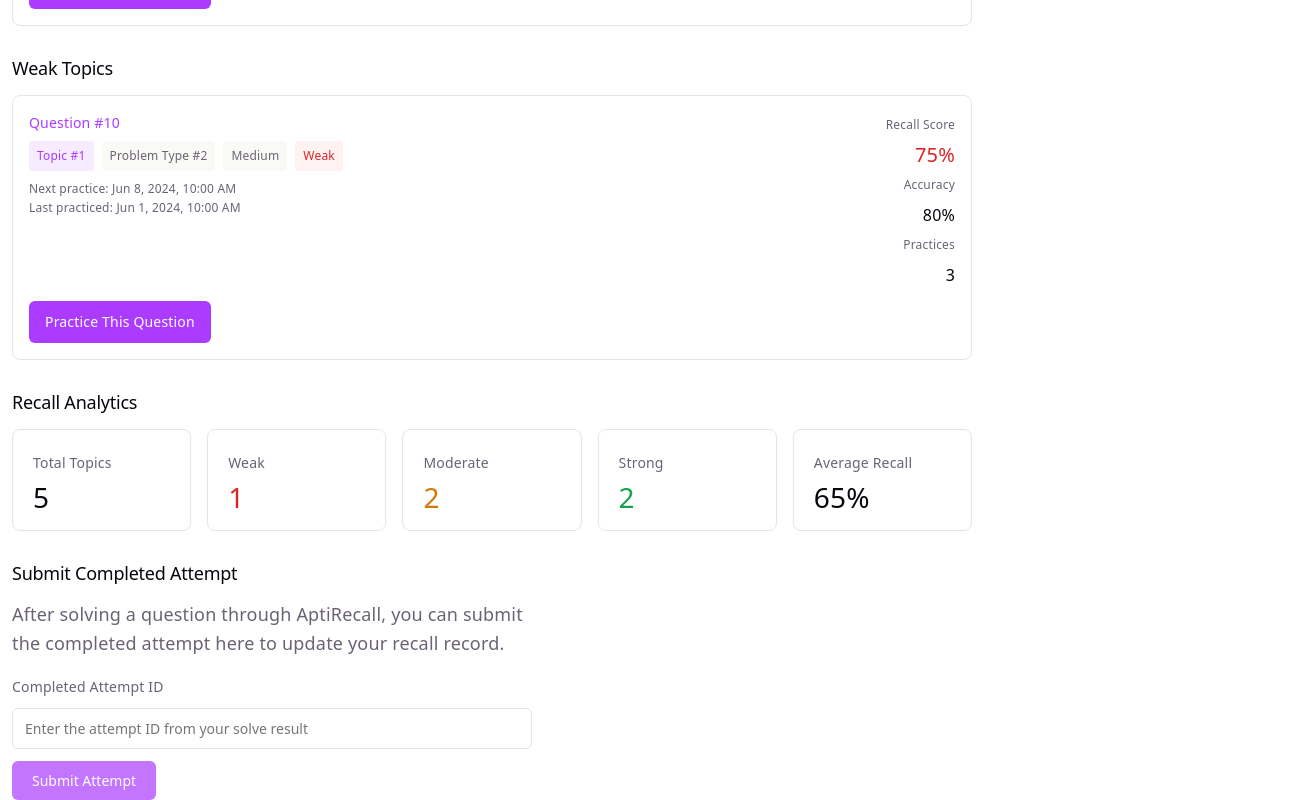
Test: Recall › shows network error for connection issues on submit
This screenshot has width=1292, height=800.
(page scrolled)
Step 1. Type "5" into the number field labelled "Completed Attempt ID" → (272, 728), box [12,708,532,749]
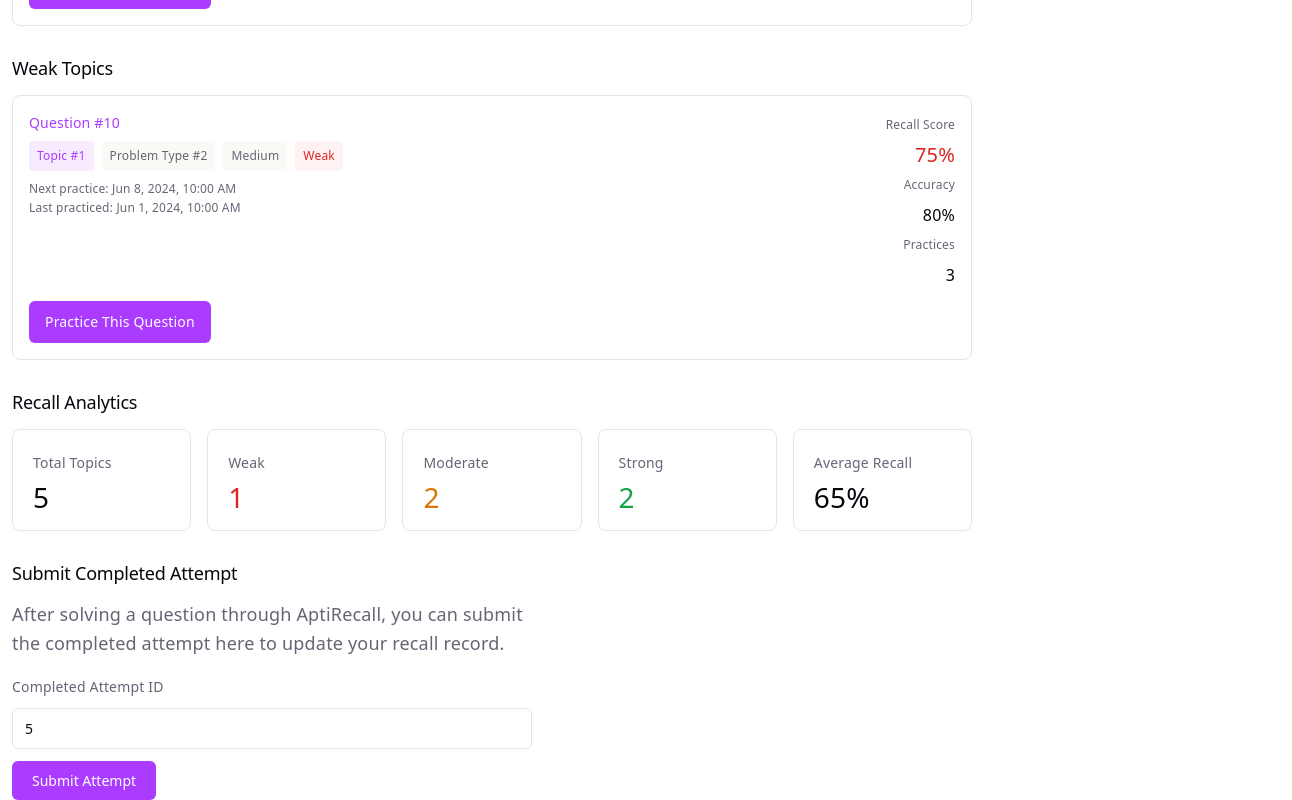
Step 2. Click the button "Submit Attempt" → (84, 780), box [12,761,156,799]
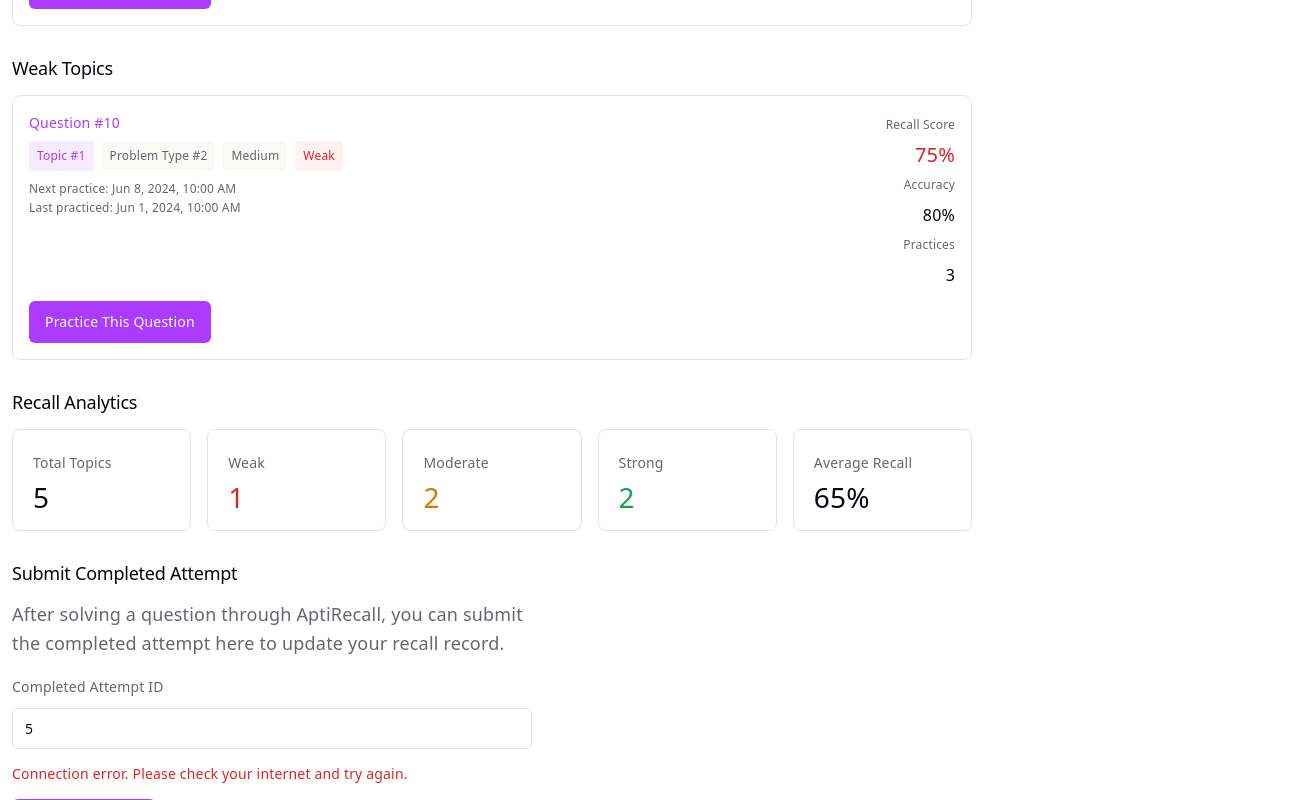
Expected: the text "Connection error. Please check your internet and try again." is shown, [12,764,408,783]
